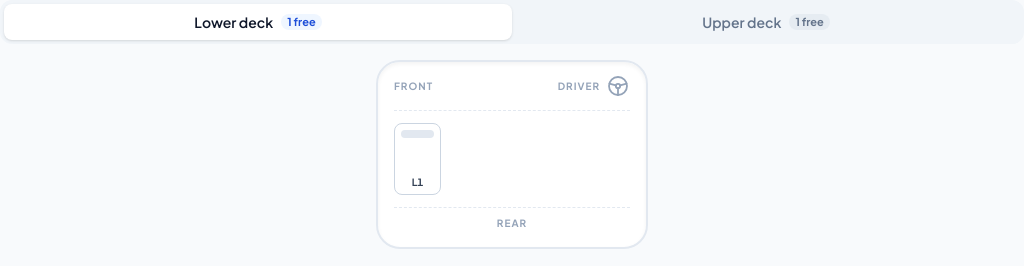
Scenario: SeatMap › shows a deck switcher for two-deck sleepers
Expected: the button named "Seat L1" is shown, [394,123,441,195]
Click the tab "Upper deck 1 free". click: (766, 22)
box: [512,4,1020,40]
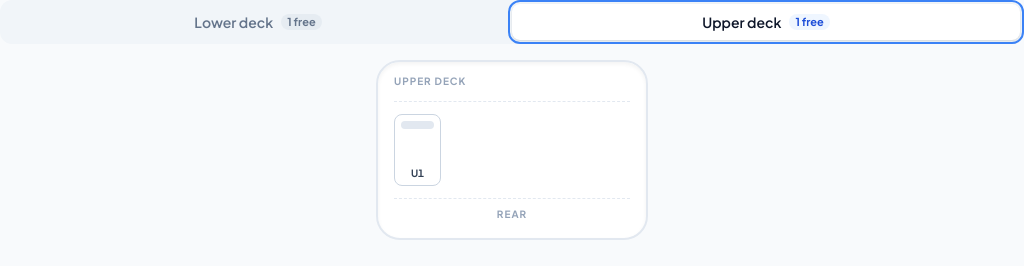
Expected: the button named "Seat U1" is shown, [394,114,441,186]
